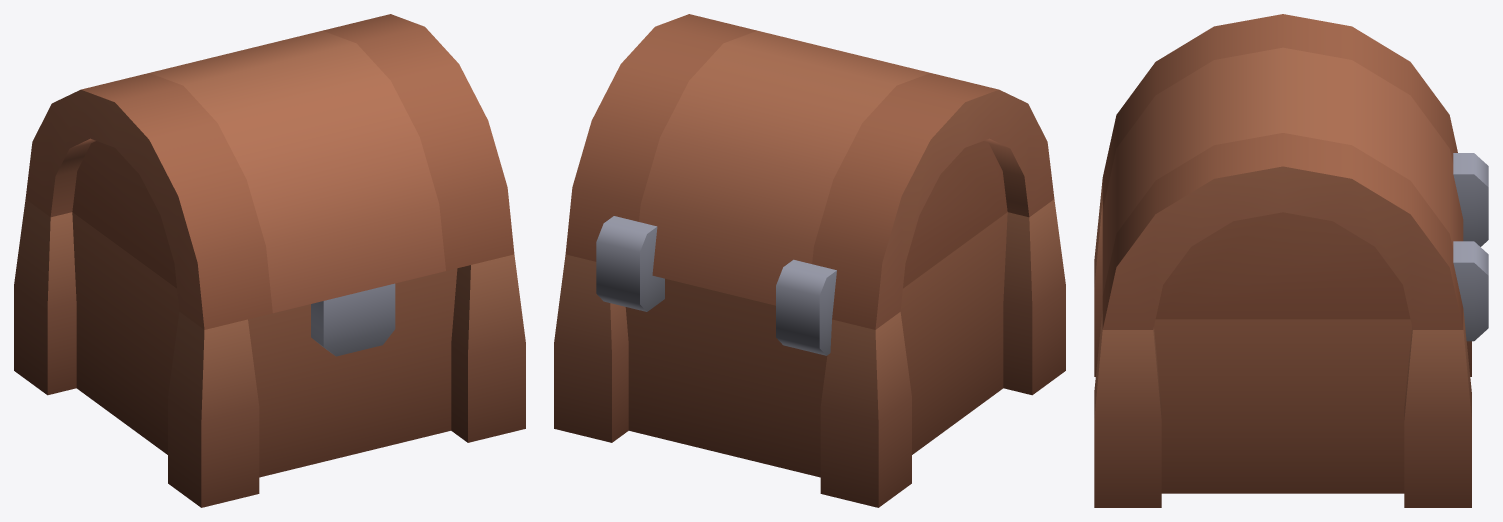
File: chest.glb
The picture shows the model from 3 angles, left to right: view 1: azimuth 30°, elevation 25°; view 2: azimuth 150°, elevation 25°; view 3: azimuth 270°, elevation 25°; orthographic projection.
Parts seen in each view (by area): view 1: chest; view 2: chest; view 3: chest.
Boxes of the visible parts, x1=… form: chest: x1=14, y1=14, x2=525, y2=507; chest: x1=554, y1=14, x2=1065, y2=507; chest: x1=1094, y1=14, x2=1488, y2=507.
Bounding box in the file's own units: 0.6075 × 0.6 × 0.6346.
